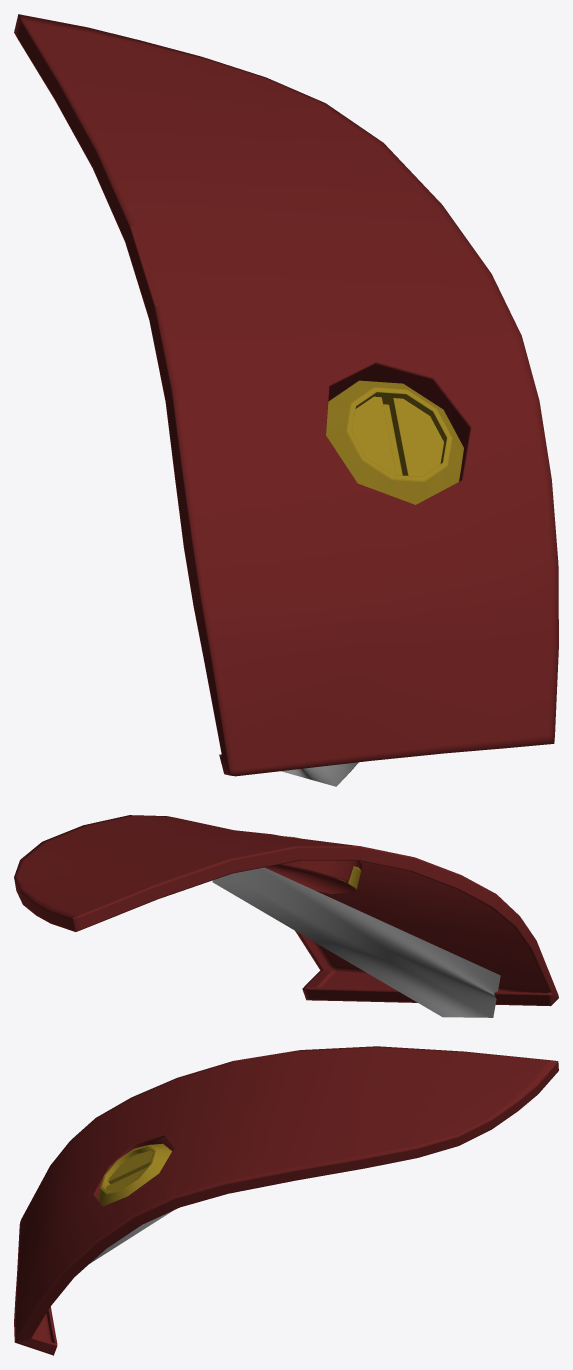
The model's file is lwing.obj.
3 renders of one model, top to bottom at view 1: azimuth 30°, elevation 25°; view 2: azimuth 150°, elevation 25°; view 3: azimuth 270°, elevation 25°, orthographic. The views are drawn at different scales.
Visible parts, largest first — view 1: IronMan:null_18, IronMan:null_17, IronMan:null_163; view 2: IronMan:null_18, IronMan:null_163; view 3: IronMan:null_18, IronMan:null_17.
Part boxes in pixels (bbox=[...]): IronMan:null_18: bbox=[14, 14, 558, 776]; IronMan:null_17: bbox=[326, 380, 463, 504]; IronMan:null_163: bbox=[281, 762, 358, 786]; IronMan:null_18: bbox=[14, 815, 558, 1006]; IronMan:null_163: bbox=[212, 867, 500, 1017]; IronMan:null_18: bbox=[14, 1046, 558, 1355]; IronMan:null_17: bbox=[97, 1143, 171, 1206].
Bounding box in the file's own units: 13.12 × 12.65 × 23.37.
